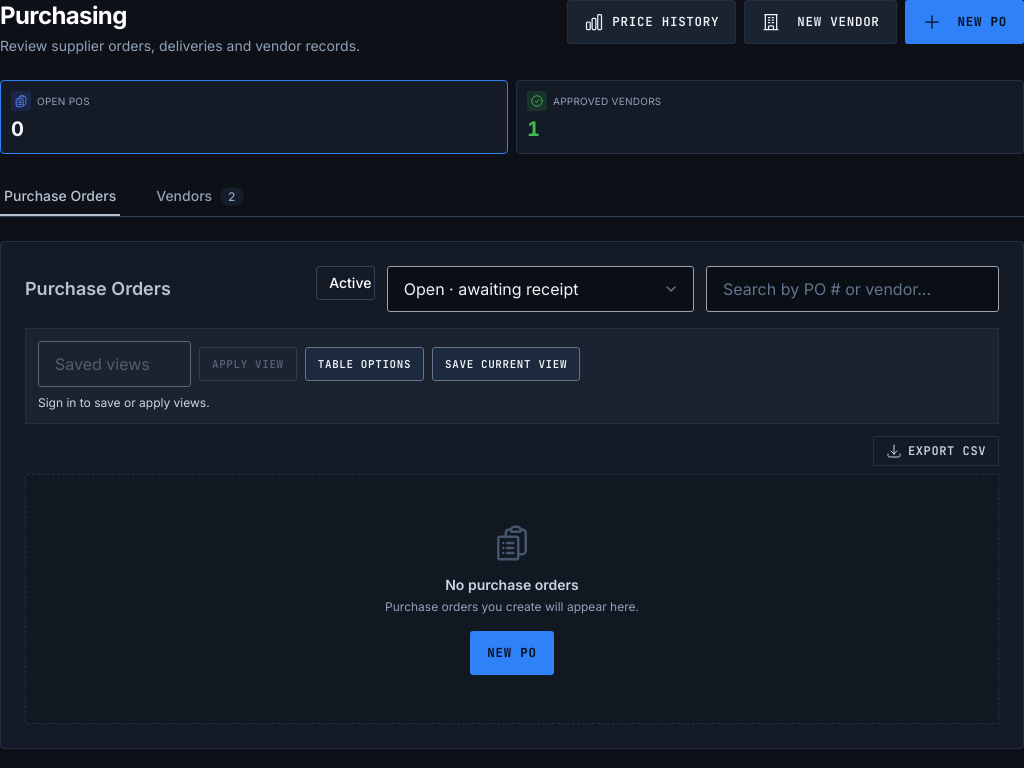
Test: opening the Edit modal shows a Vendor Code input prefilled with the vendor code
Expected: the heading "Purchasing" is shown, [0,0,127,32]
Click the tab "Vendors2".
click(200, 197)  # box [152,178,248,216]
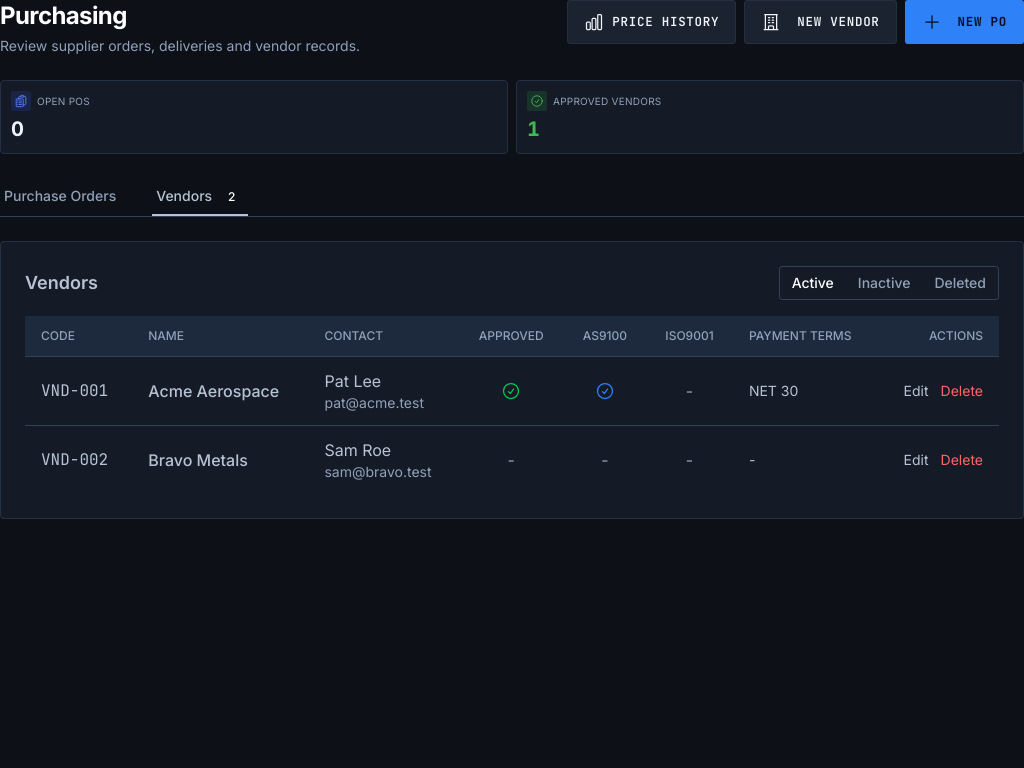
Click the button "Edit" in the row of "VND-001".
click(916, 391)  # box [904,381,929,401]
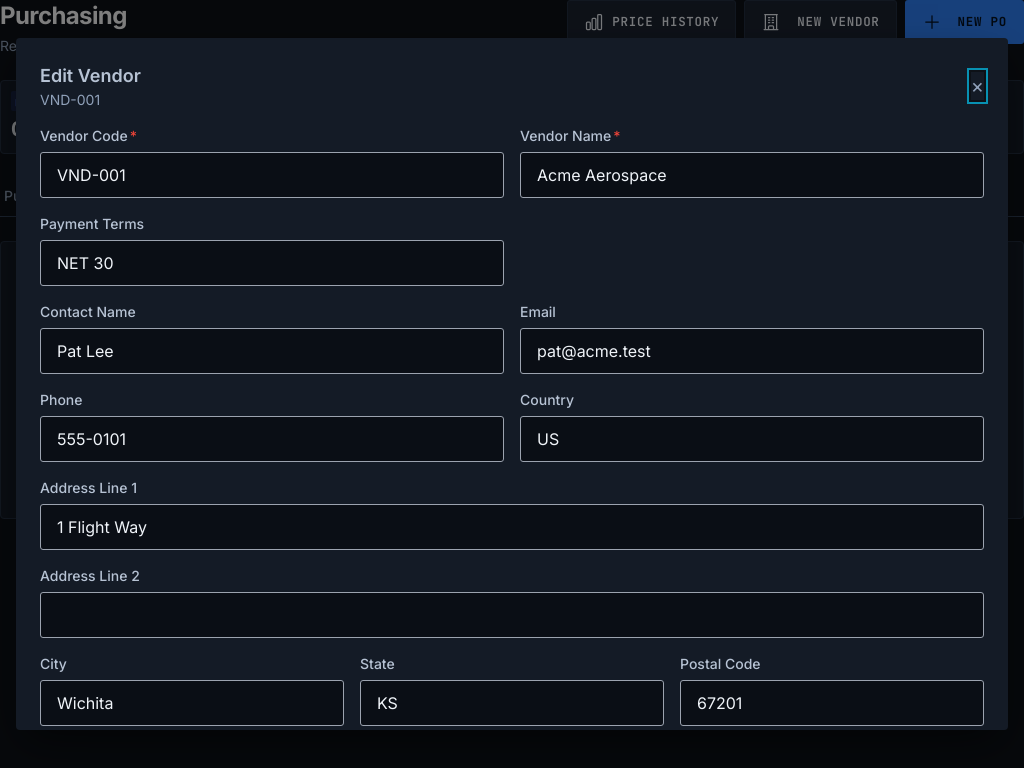
Now the heading "Edit Vendor" is shown, box [40,62,141,90]
Now the field labelled "Vendor Code*" holds "VND-001", box [40,152,504,198]
